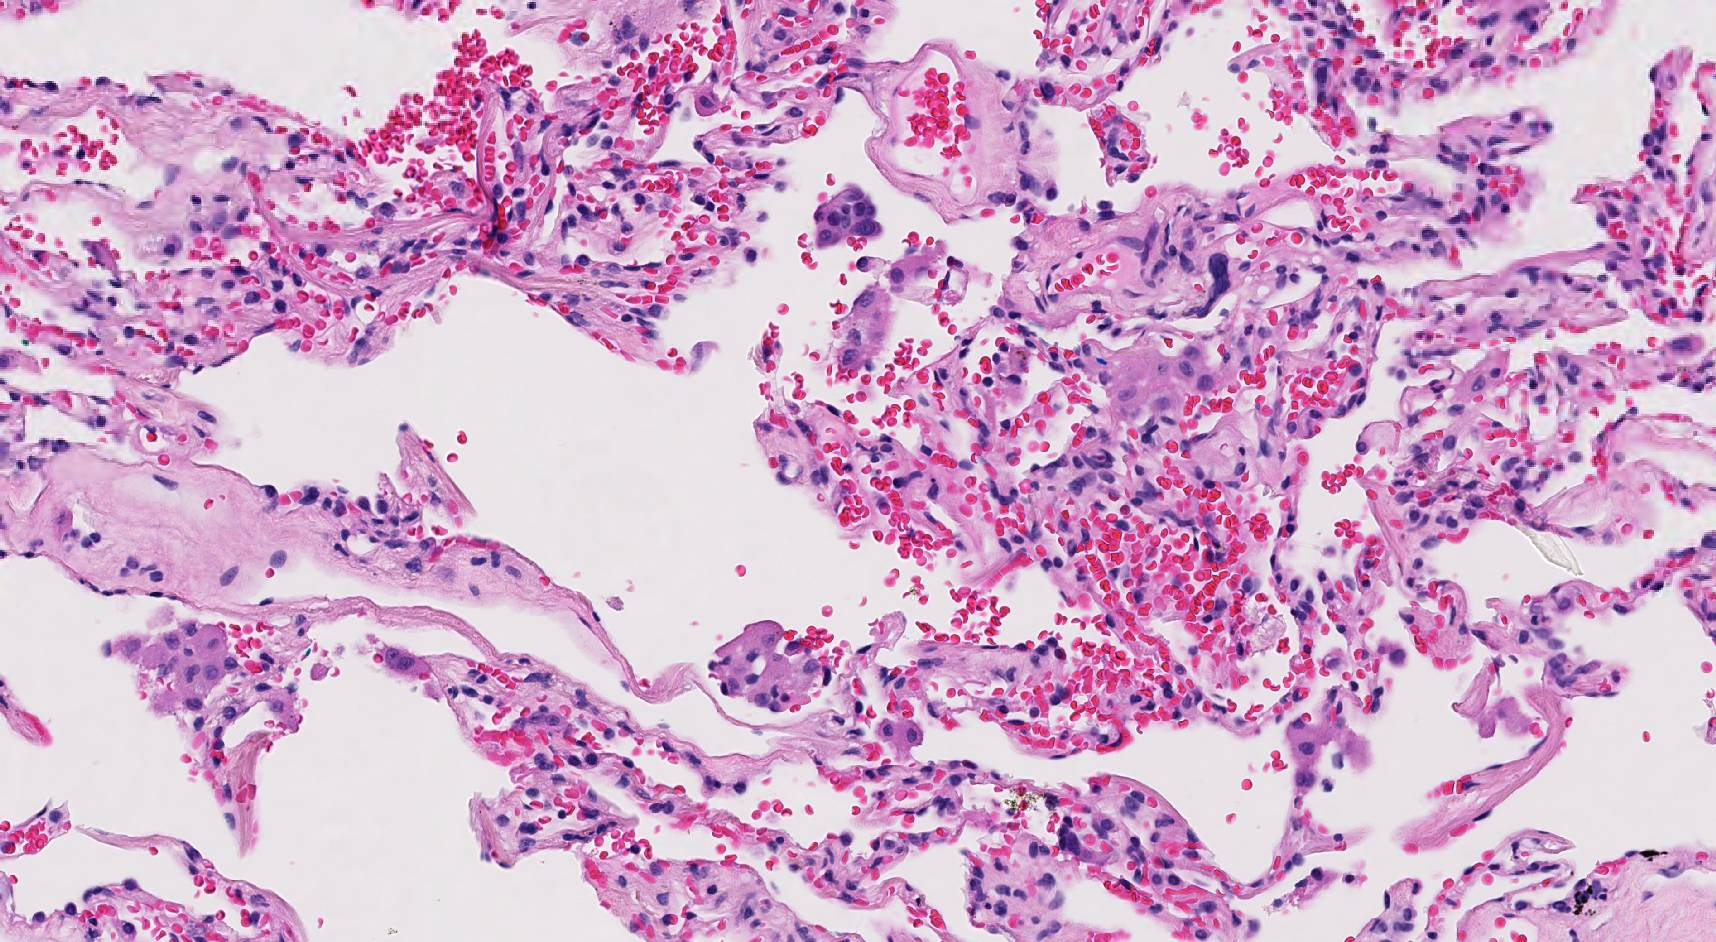stas: (812, 182, 886, 252)
